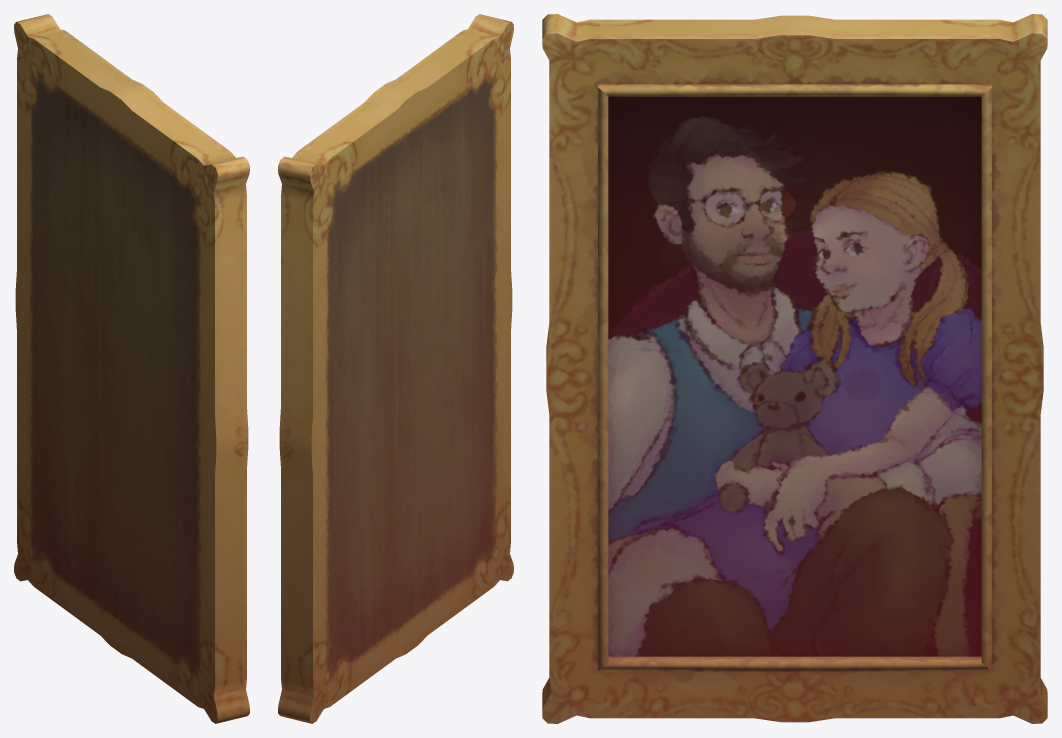
File: Painting_Update_Rotation.fbx
3 renders of one model, left to right at view 1: azimuth 30°, elevation 25°; view 2: azimuth 150°, elevation 25°; view 3: azimuth 270°, elevation 25°, orthographic. The views are drawn at different scales.
Visible parts, largest first — view 1: Painting; view 2: Painting; view 3: Painting, Button.
Boxes of the visible parts, <box> form: Painting: <box>14,14,249,723</box>; Painting: <box>278,14,513,723</box>; Painting: <box>542,14,1047,723</box>; Button: <box>843,366,881,399</box>.
Bounding box in the file's own units: 47.26 × 753 × 500.
